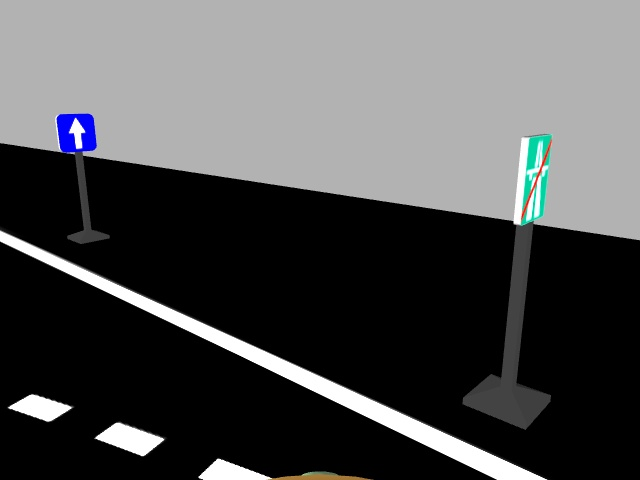HighwayExit: (511, 130, 552, 230)
OneWay: (50, 111, 99, 153)
